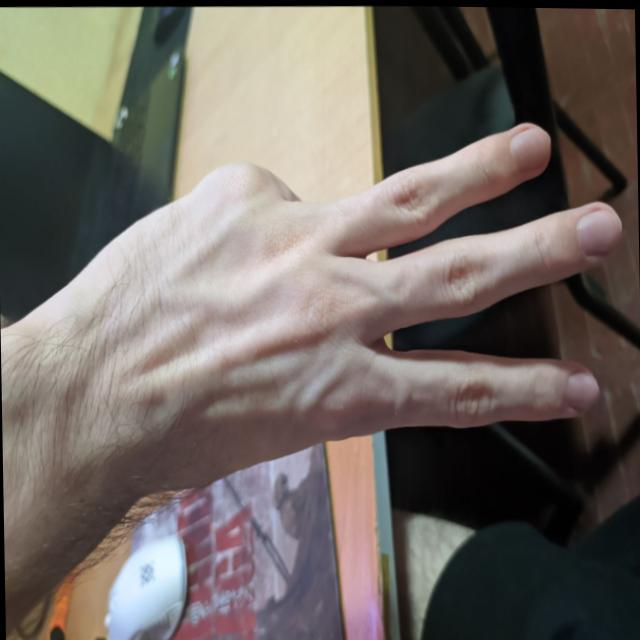m: (83, 21, 604, 556)
